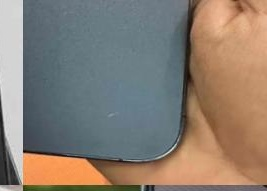scratch: (102, 102, 131, 120)
